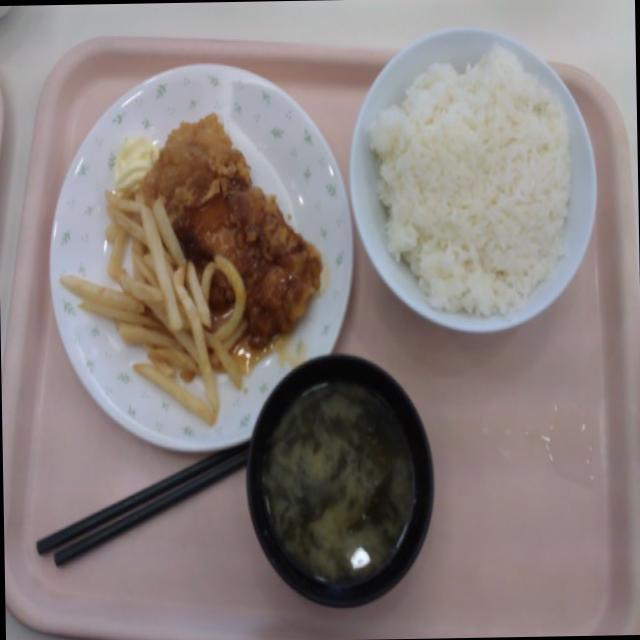Rice: (359, 50, 574, 316)
